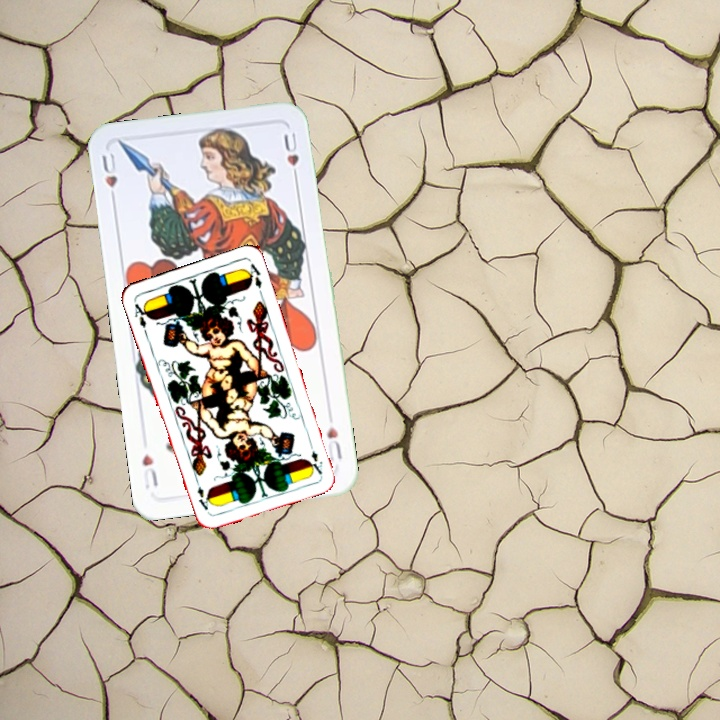EA: (305, 438, 325, 477), (130, 299, 152, 331)
HU: (98, 149, 122, 207), (323, 422, 344, 464)
